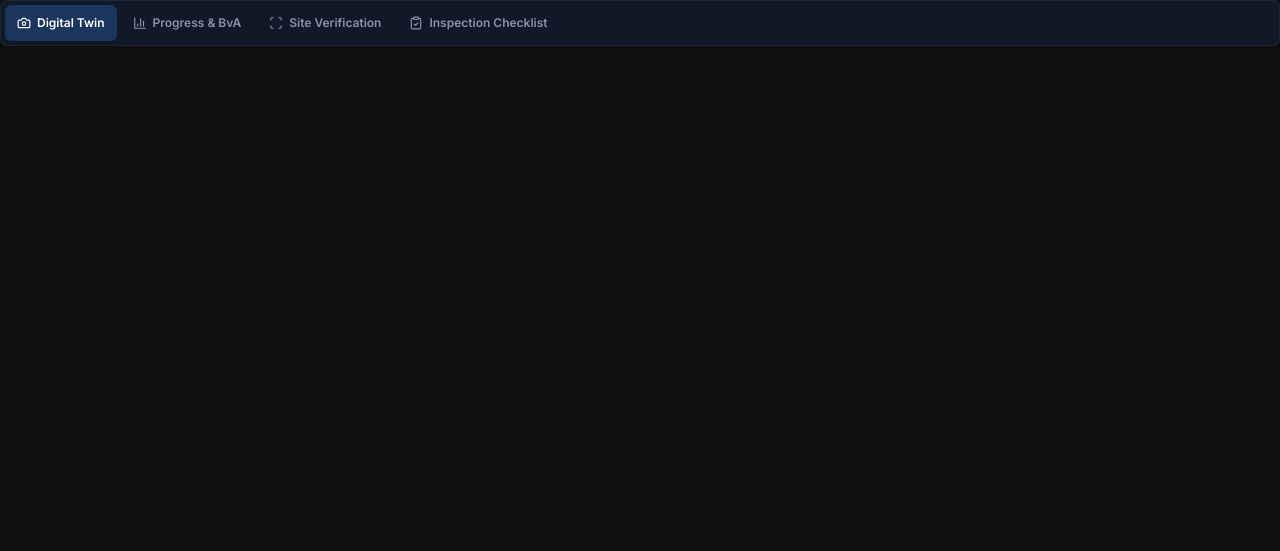
Test: P3DigitalTwinStage › switches to progress tab on click
Click the button "Progress & BvA": x=187, y=23 [120,5,253,40]
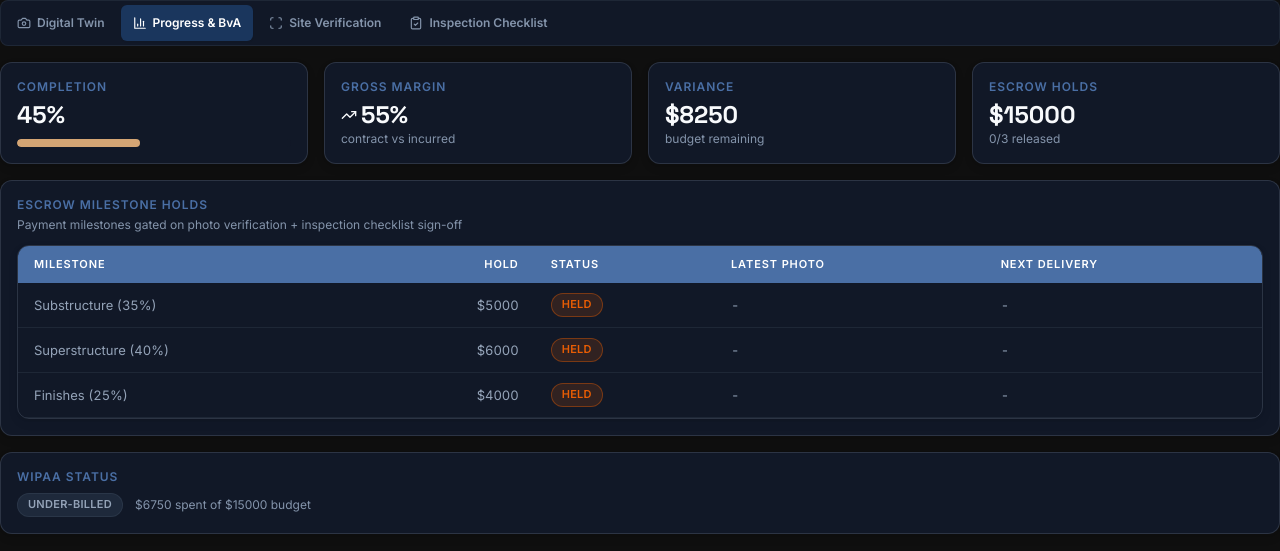
Expected: the text "Completion" is shown, [17,78,107,94]
